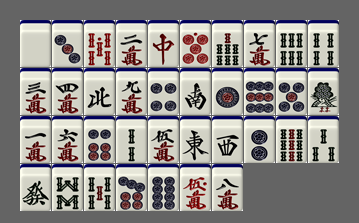0m: (180, 164, 211, 211)
0p: (180, 20, 211, 67)
0s: (84, 20, 115, 67)
1m: (20, 116, 51, 163)
1p: (212, 68, 243, 115)
1s: (308, 68, 339, 115)
1z: (180, 116, 211, 163)
2m: (116, 20, 147, 67)
2p: (244, 116, 275, 163)
2s: (116, 116, 147, 163)
2z: (180, 68, 211, 115)
3m: (20, 68, 51, 115)
3p: (52, 20, 83, 67)
3s: (308, 116, 339, 163)
3z: (212, 116, 243, 163)
4m: (52, 68, 83, 115)
4p: (148, 68, 179, 115)
4s: (308, 20, 339, 67)
4z: (84, 68, 115, 115)
5m: (148, 116, 179, 163)
5p: (276, 68, 307, 115)
5s: (84, 164, 115, 211)
5z: (20, 20, 51, 67)
6m: (52, 116, 83, 163)
6p: (84, 116, 115, 163)
6s: (276, 20, 307, 67)
6z: (20, 164, 51, 211)
7m: (244, 20, 275, 67)
7p: (116, 164, 147, 211)
7s: (212, 20, 243, 67)
7z: (148, 20, 179, 67)
8m: (212, 164, 243, 211)
8p: (148, 164, 179, 211)
8s: (52, 164, 83, 211)
9m: (116, 68, 147, 115)
9p: (244, 68, 275, 115)
9s: (276, 116, 307, 163)
